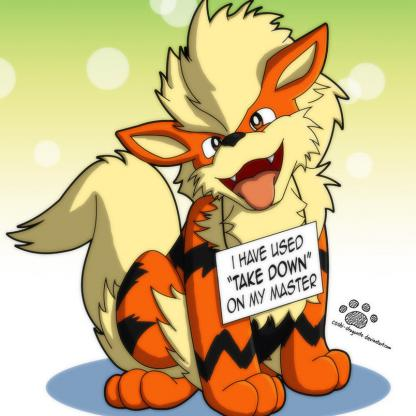Arcanine: (23, 14, 366, 416)
